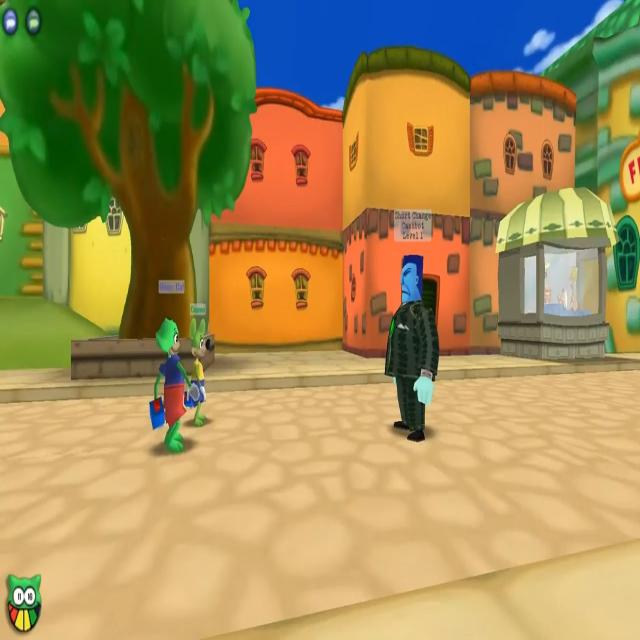shortchange: (386, 259, 440, 441)
